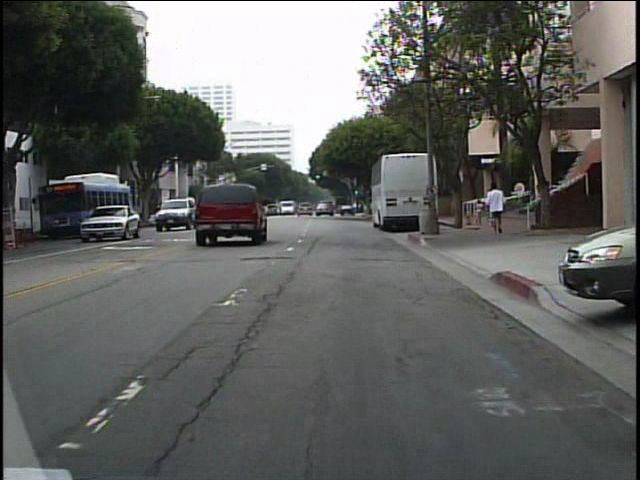person: (487, 180, 512, 237), (472, 195, 485, 228)
